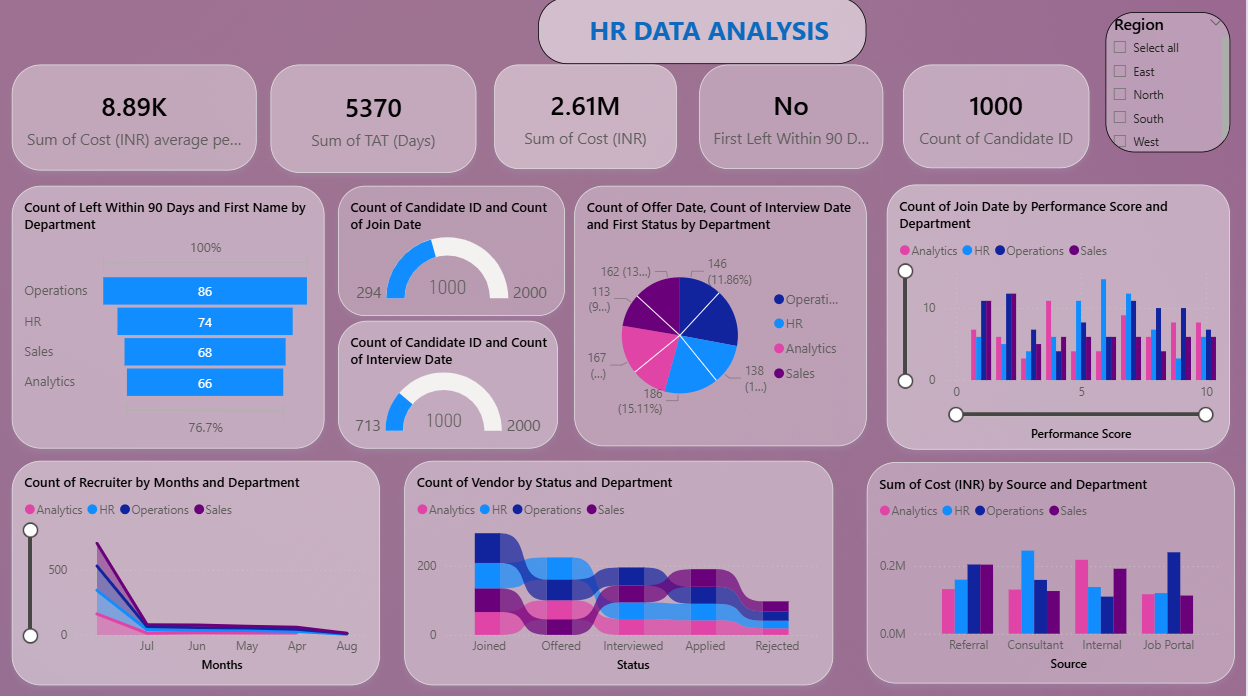

What the dashboard file says about the page in this screenshot:
{"tool":"powerbi","page":{"name":"HR DATA ","canvas":[1280,720],"ordinal":0},"visuals":[{"type":"card","fields":{"Values":["CountNonNull(HR Data Set.Candidate ID)"]},"box":[928.8,68.8,191.2,106.2],"z":0},{"type":"card","fields":{"Values":["Min(HR Data Set.Left Within 90 Days)"]},"box":[718.8,68.8,188.8,107.5],"z":1000},{"type":"gauge","fields":{"Y":["CountNonNull(HR Data Set.Candidate ID)"],"MinValue":["CountNonNull(HR Data Set.Join Date)"]},"box":[348.5,193.9,233.1,133.7],"z":2000},{"type":"card","fields":{"Values":["Sum(HR Data Set.TAT (Days))"]},"box":[280,68.8,211.2,111.2],"z":3000},{"type":"card","fields":{"Values":["Sum(HR Data Set.Cost (INR))"]},"box":[508.8,68.8,187.5,107.5],"z":4000},{"type":"card","fields":{"Values":["HR Data Set.Sum of Cost (INR) average per Candidate ID"]},"box":[13.8,68.8,251.2,108.8],"z":5000},{"type":"clusteredColumnChart","fields":{"Category":["HR Data Set.Performance Score"],"Y":["CountNonNull(HR Data Set.Join Date)"],"Series":["HR Data Set.Department"]},"box":[912,192,352,272],"z":6000},{"type":"pieChart","fields":{"Category":["HR Data Set.Department"],"Y":["CountNonNull(HR Data Set.Offer Date)","CountNonNull(HR Data Set.Interview Date)"]},"box":[591.2,193.8,300,267.5],"z":7000},{"type":"stackedAreaChart","fields":{"Category":["HR Data Set.Months"],"Series":["HR Data Set.Department"],"Y":["CountNonNull(HR Data Set.Recruiter)"]},"box":[13.8,475,377.5,230],"z":8000},{"type":"clusteredColumnChart","fields":{"Y":["Sum(HR Data Set.Cost (INR))"],"Series":["HR Data Set.Department"],"Category":["HR Data Set.Source"]},"box":[891.2,477.5,377.5,227.5],"z":9000},{"type":"slicer","fields":{"Values":["HR Data Set.Region"]},"box":[1136,16,128,144],"z":10000},{"type":"funnel","fields":{"Category":["HR Data Set.Department"],"Y":["CountNonNull(HR Data Set.Left Within 90 Days)"]},"box":[13.7,194.1,320.9,269.9],"z":11000},{"type":"textbox","box":[553.6,0,337.1,68.4],"z":12000},{"type":"gauge","fields":{"Y":["CountNonNull(HR Data Set.Candidate ID)"],"MinValue":["CountNonNull(HR Data Set.Interview Date)"]},"box":[348.5,332.5,225.8,131.3],"z":13000},{"type":"ribbonChart","fields":{"Y":["CountNonNull(HR Data Set.Vendor)"],"Series":["HR Data Set.Department"],"Category":["HR Data Set.Status"]},"box":[416.2,475,440,230],"z":14000}]}

Visuals, with their boxes in screenshot pixels (x1, y1, x2, y2), scaled from the page's 1280x720 canvas onto the 1248x696 screenshot:
card - CountNonNull(HR Data Set.Candidate ID): bbox=[906, 67, 1092, 169]
card - Min(HR Data Set.Left Within 90 Days): bbox=[701, 67, 885, 170]
gauge - CountNonNull(HR Data Set.Candidate ID) x CountNonNull(HR Data Set.Join Date): bbox=[340, 187, 567, 317]
card - Sum(HR Data Set.TAT (Days)): bbox=[273, 67, 479, 174]
card - Sum(HR Data Set.Cost (INR)): bbox=[496, 67, 679, 170]
card - HR Data Set.Sum of Cost (INR) average per Candidate ID: bbox=[13, 67, 258, 172]
clusteredColumnChart - HR Data Set.Performance Score x CountNonNull(HR Data Set.Join Date): bbox=[889, 186, 1232, 449]
pieChart - HR Data Set.Department x CountNonNull(HR Data Set.Offer Date): bbox=[576, 187, 869, 446]
stackedAreaChart - HR Data Set.Months x HR Data Set.Department: bbox=[13, 459, 382, 682]
clusteredColumnChart - Sum(HR Data Set.Cost (INR)) x HR Data Set.Department: bbox=[869, 462, 1237, 682]
slicer - HR Data Set.Region: bbox=[1108, 15, 1232, 155]
funnel - HR Data Set.Department x CountNonNull(HR Data Set.Left Within 90 Days): bbox=[13, 188, 326, 449]
textbox: bbox=[540, 0, 868, 66]
gauge - CountNonNull(HR Data Set.Candidate ID) x CountNonNull(HR Data Set.Interview Date): bbox=[340, 321, 560, 448]
ribbonChart - CountNonNull(HR Data Set.Vendor) x HR Data Set.Department: bbox=[406, 459, 835, 682]
